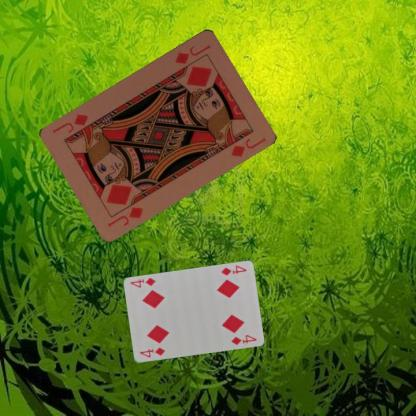4d: (218, 263, 248, 277), (137, 345, 166, 359)
Jd: (104, 204, 144, 228), (172, 42, 212, 65)
